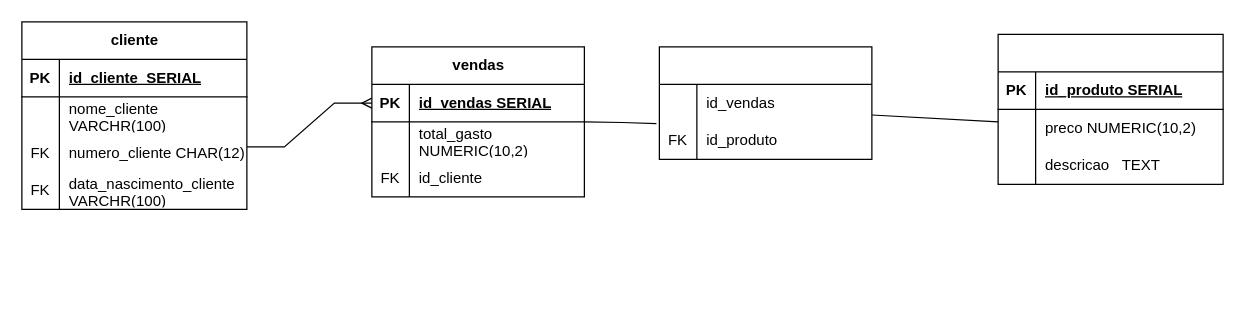
Image size: 1245x331. Some labels were removed from this diagram. The box of each missing label's shape, as (x1, y1, x2, y2) in pixels:
itens_venda: (658, 46, 872, 159)
servico: (997, 33, 1223, 184)
